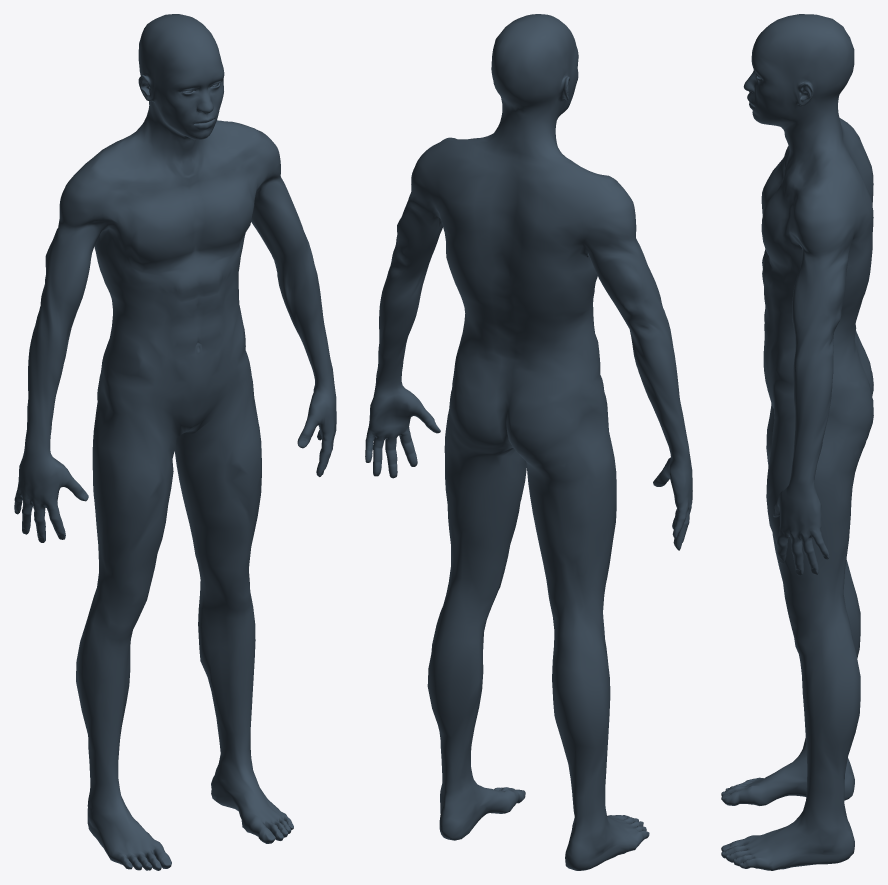
The model's file is twin-natural-v1.glb.
The picture shows the model from 3 angles, left to right: view 1: azimuth 30°, elevation 25°; view 2: azimuth 150°, elevation 25°; view 3: azimuth 270°, elevation 25°; orthographic projection.
Visible parts, largest first — view 1: twin-region:legs, twin-region:neutral, twin-region:arms, twin-region:chest, twin-region:core, twin-region:shoulders, twin-region:abs; view 2: twin-region:legs, twin-region:back, twin-region:neutral, twin-region:arms, twin-region:glutes, twin-region:shoulders, twin-region:core; view 3: twin-region:neutral, twin-region:legs, twin-region:arms, twin-region:shoulders, twin-region:back, twin-region:glutes, twin-region:chest, twin-region:core, twin-region:abs.
Boxes of the visible parts, x1=… form: twin-region:legs: x1=76, y1=363, x2=261, y2=796; twin-region:neutral: x1=14, y1=14, x2=336, y2=870; twin-region:arms: x1=25, y1=189, x2=332, y2=448; twin-region:chest: x1=103, y1=161, x2=260, y2=280; twin-region:core: x1=99, y1=233, x2=245, y2=397; twin-region:shoulders: x1=48, y1=122, x2=294, y2=266; twin-region:abs: x1=158, y1=260, x2=231, y2=383; twin-region:legs: x1=427, y1=392, x2=616, y2=825; twin-region:back: x1=431, y1=149, x2=594, y2=391; twin-region:neutral: x1=365, y1=14, x2=692, y2=870; twin-region:arms: x1=375, y1=209, x2=689, y2=462; twin-region:glutes: x1=448, y1=349, x2=592, y2=493; twin-region:shoulders: x1=401, y1=137, x2=650, y2=280; twin-region:core: x1=573, y1=275, x2=600, y2=386; twin-region:neutral: x1=721, y1=14, x2=854, y2=870; twin-region:legs: x1=766, y1=398, x2=860, y2=820; twin-region:arms: x1=791, y1=262, x2=847, y2=489; twin-region:shoulders: x1=789, y1=177, x2=861, y2=298; twin-region:back: x1=833, y1=127, x2=873, y2=377; twin-region:glutes: x1=829, y1=334, x2=873, y2=479; twin-region:chest: x1=761, y1=151, x2=802, y2=278; twin-region:core: x1=767, y1=269, x2=798, y2=392; twin-region:abs: x1=762, y1=249, x2=773, y2=374.
Bounding box in the file's own units: 0.7525 × 1.85 × 0.3151.
